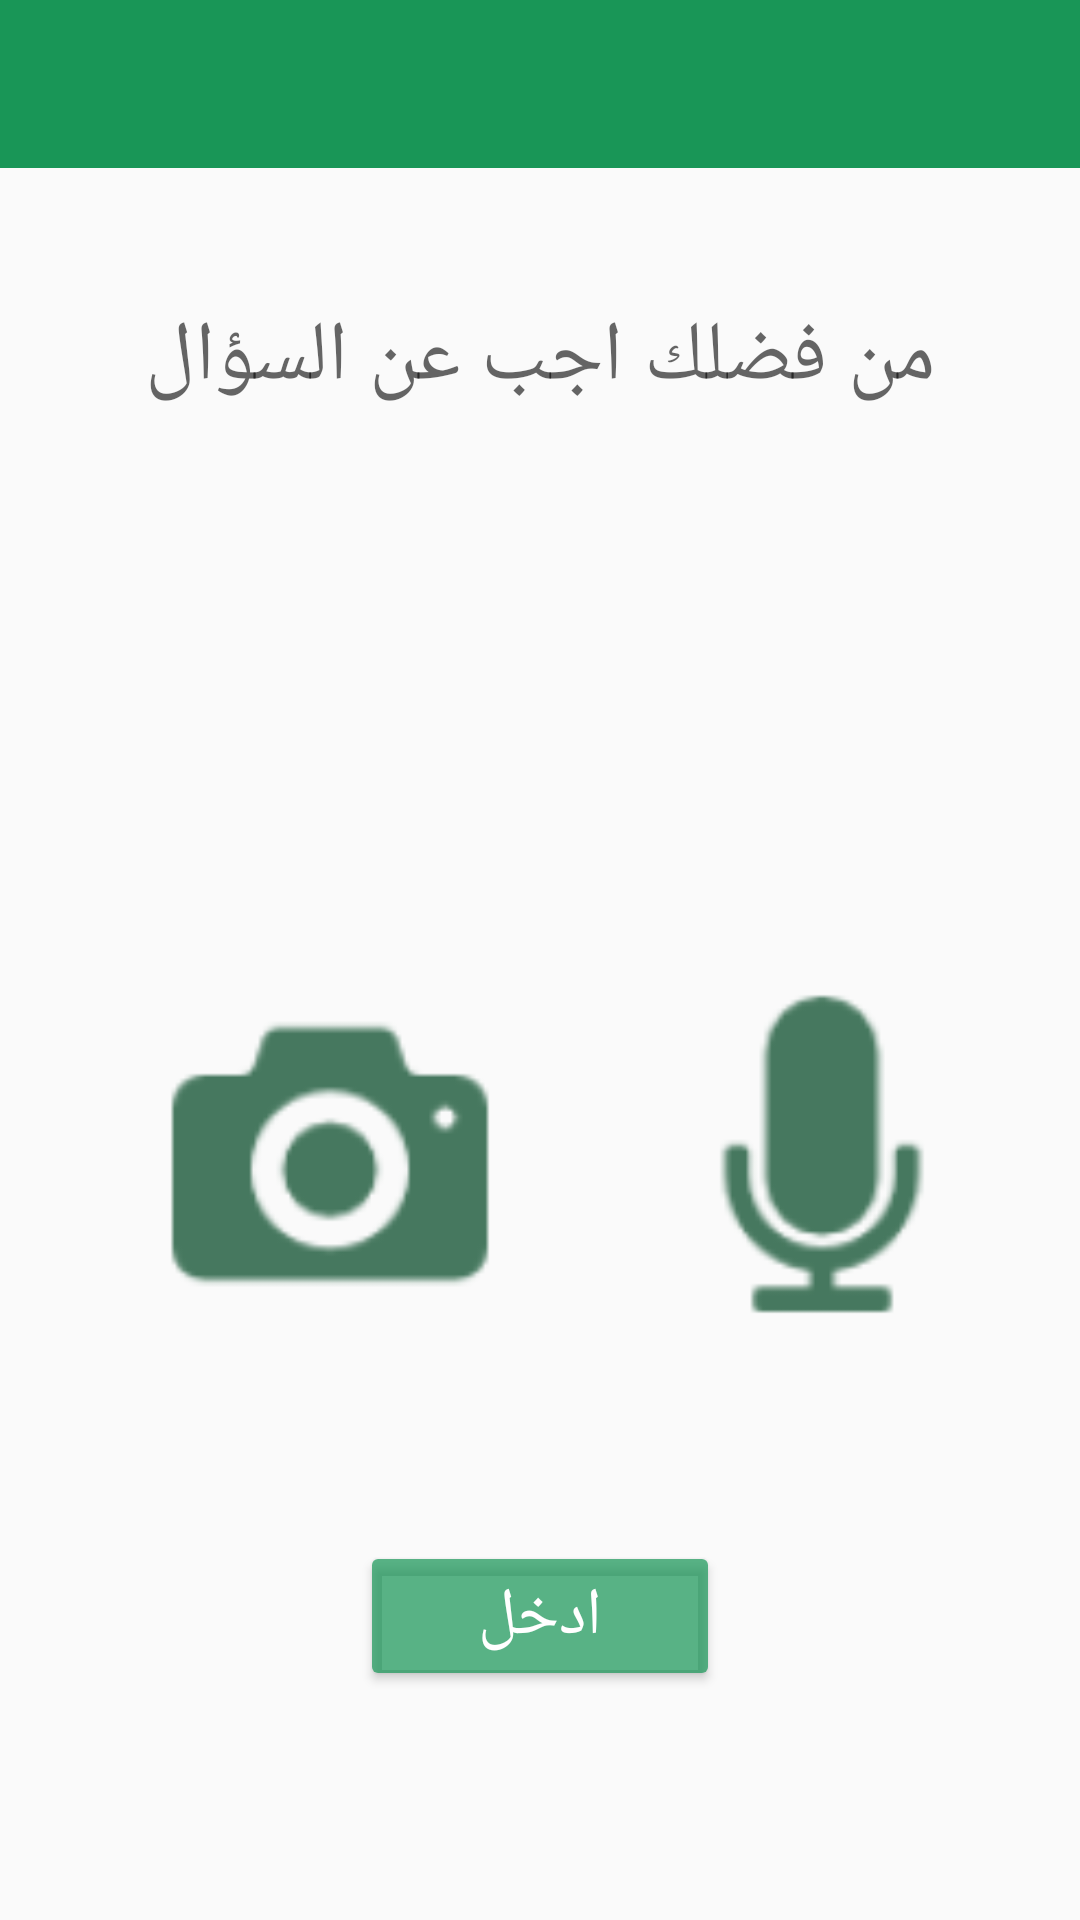

Screen size 1080 x 1920. Icon name, then its box in pixels as (x1, y1, x2, y2):
camera: (171, 1025, 489, 1283)
mic: (721, 995, 923, 1313)
